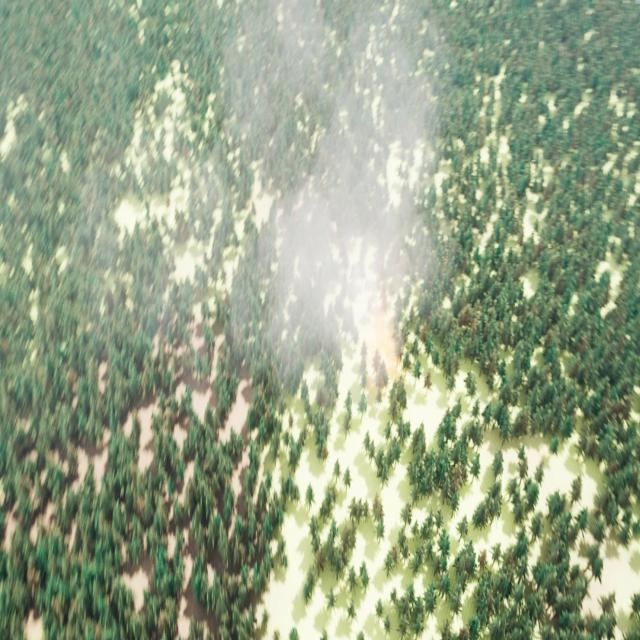smoke: (76, 0, 449, 385)
